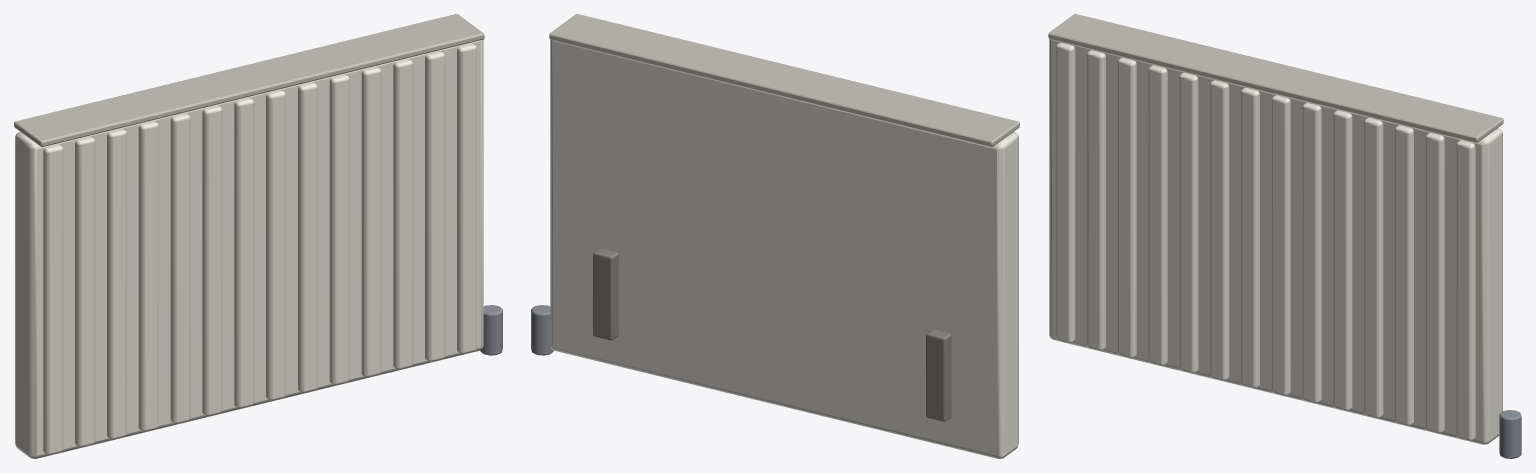
Rendered from radiator.fbx.
3 views of the same model, side by side, from view 1: azimuth 30°, elevation 25°; view 2: azimuth 150°, elevation 25°; view 3: azimuth 330°, elevation 25° (orthographic). The views are drawn at different scales.
Visible parts, largest first — view 1: radiator; view 2: radiator; view 3: radiator.
Part boxes in pixels (x1=…): radiator: x1=14, y1=14, x2=502, y2=458; radiator: x1=531, y1=14, x2=1019, y2=458; radiator: x1=1048, y1=14, x2=1521, y2=458.
Bounding box in the file's own units: 0.949 × 0.103 × 0.631.
